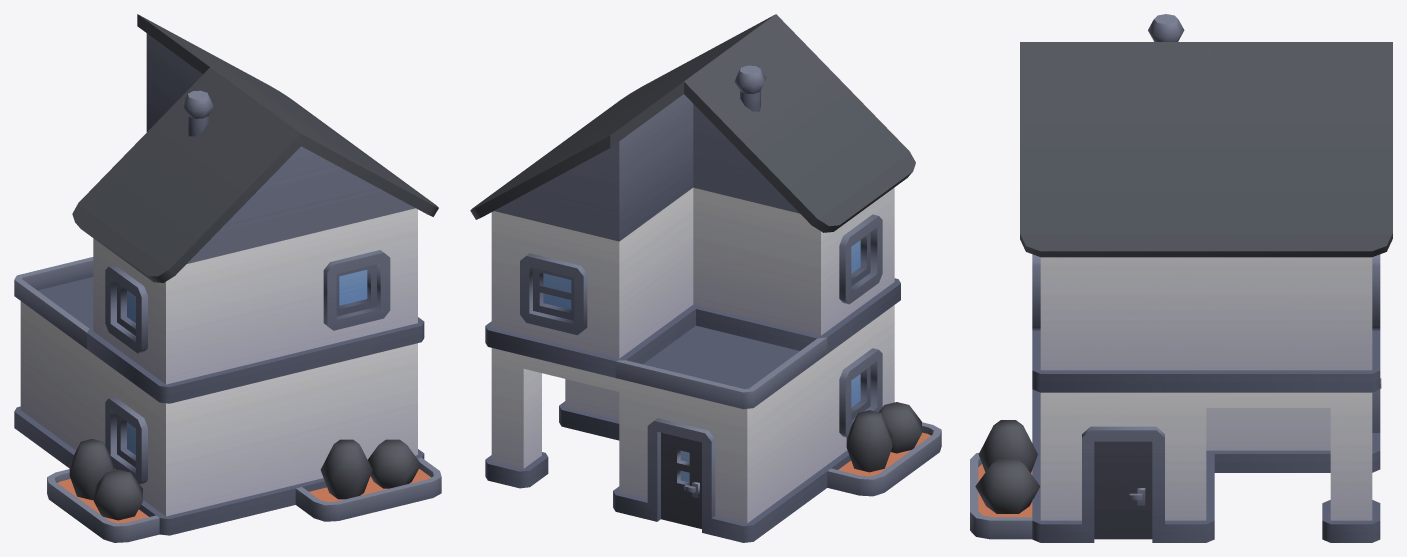
The model's file is farmhouse_r.glb.
3 views of the same model, side by side, from view 1: azimuth 30°, elevation 25°; view 2: azimuth 150°, elevation 25°; view 3: azimuth 270°, elevation 25° (orthographic). The views are drawn at different scales.
Visible parts, largest first — view 1: building-type-r; view 2: building-type-r; view 3: building-type-r.
Boxes of the visible parts, left/top/right/bottom form: building-type-r: left=14, top=14, right=441, bottom=542; building-type-r: left=470, top=14, right=941, bottom=542; building-type-r: left=970, top=14, right=1392, bottom=542.
Size of the model in its own units: 1.03 by 1.14 by 1.02.
Materials: 1 (1 with a texture image).
